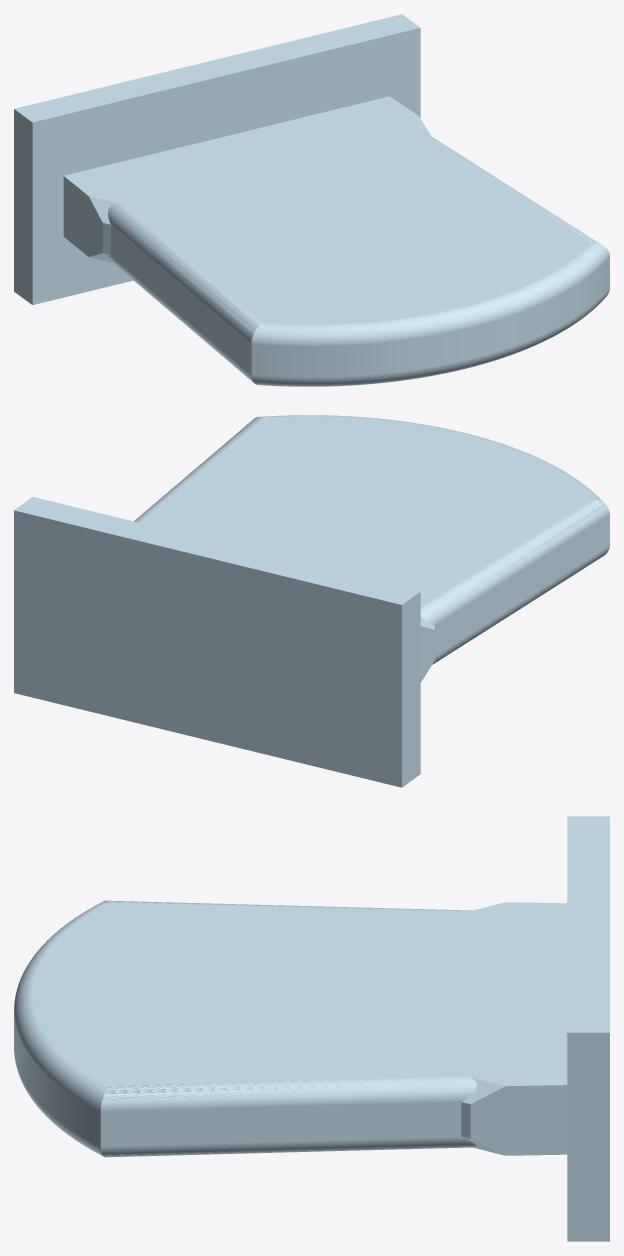
The picture shows the model from 3 angles, top to bottom: view 1: azimuth 30°, elevation 25°; view 2: azimuth 150°, elevation 25°; view 3: azimuth 270°, elevation 25°; orthographic projection. The views are drawn at different scales.
Visible parts, largest first — view 1: PA-87-F_LOD0; view 2: PA-87-F_LOD0; view 3: PA-87-F_LOD0.
Boxes of the visible parts, <box> form: PA-87-F_LOD0: <box>14,14,609,386</box>; PA-87-F_LOD0: <box>14,415,609,787</box>; PA-87-F_LOD0: <box>14,816,609,1241</box>.
Size of what is drawn, in the model's own units: 67.74 by 30.48 by 78.83.
